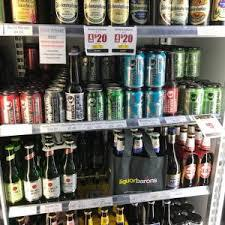beer: (3, 44, 220, 203)
